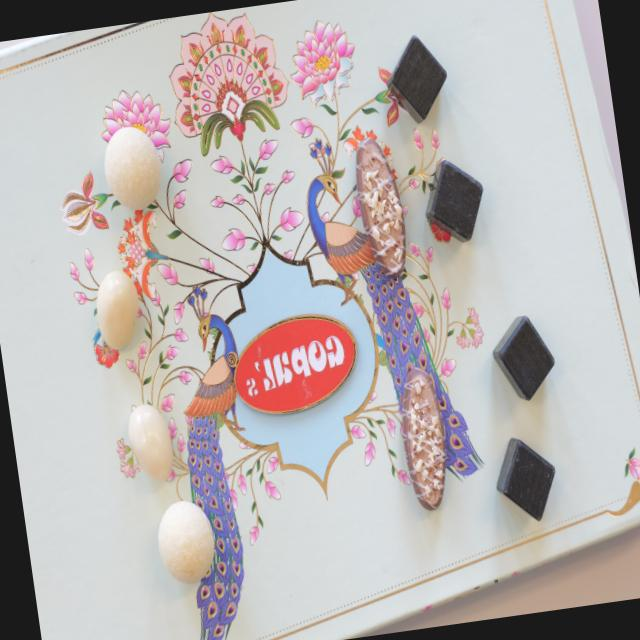Amandina: (394, 367, 456, 512), (352, 137, 412, 284)
Comtesse: (153, 498, 221, 589), (100, 123, 165, 215)
Jelly_White: (126, 399, 177, 484), (93, 270, 145, 350)
